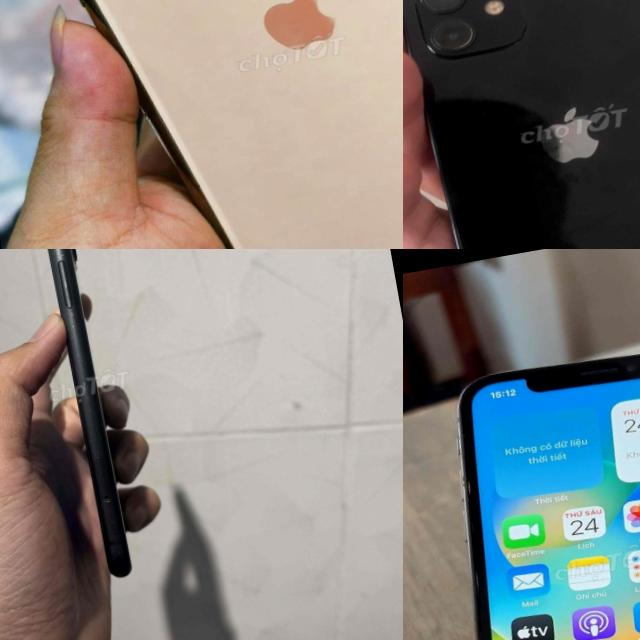scratch: (58, 302, 111, 471)
